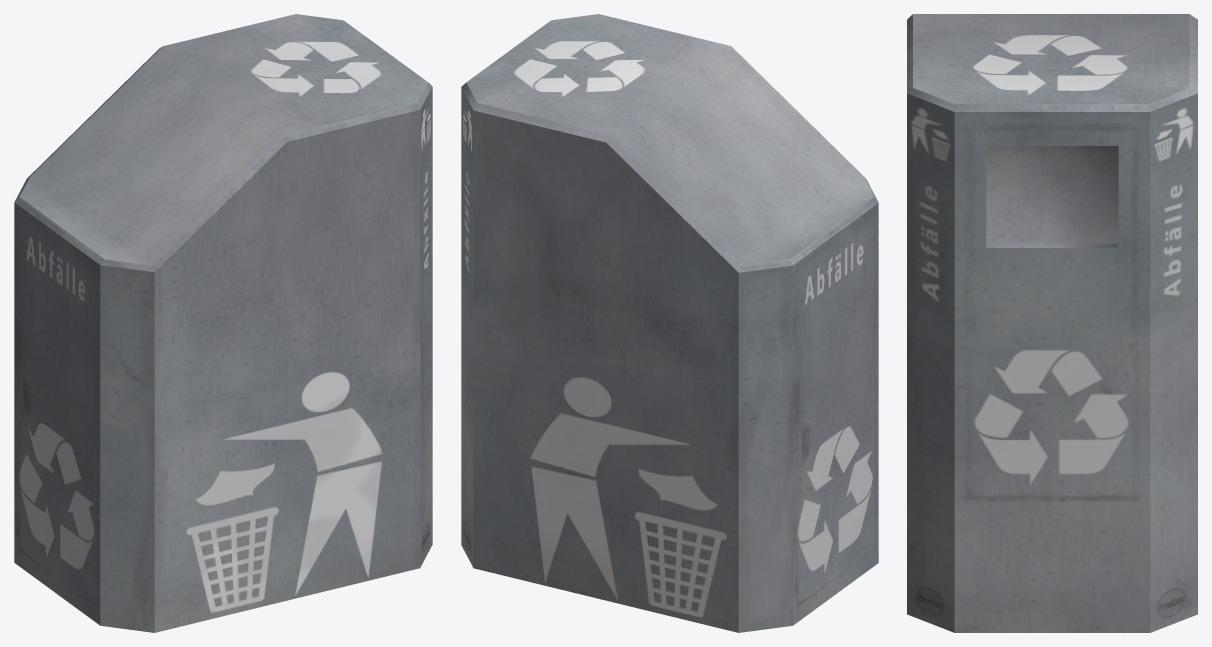
Rendered from Trashcan.obj.
3 renders of one model, left to right at view 1: azimuth 30°, elevation 25°; view 2: azimuth 150°, elevation 25°; view 3: azimuth 270°, elevation 25°, orthographic. The views are drawn at different scales.
Parts seen in each view (by area): view 1: Trashcan; view 2: Trashcan; view 3: Trashcan.
Boxes of the visible parts, x1,y1,x2,y2 form: Trashcan: [14, 14, 432, 632]; Trashcan: [461, 14, 878, 632]; Trashcan: [907, 14, 1197, 632].
Size of the model in its own units: 0.8999 by 1.2 by 0.6.
1 material, 1 textured.
